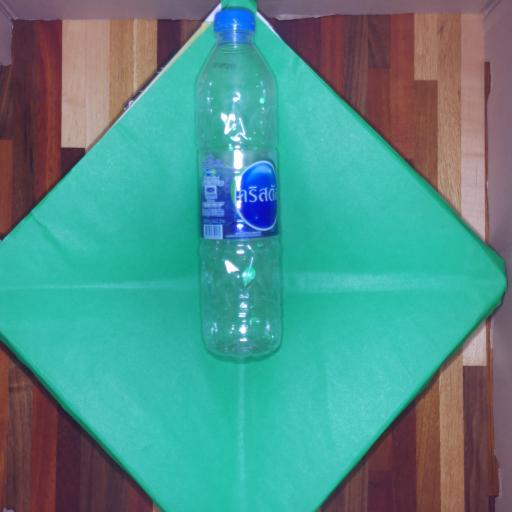bottle: (197, 9, 281, 357)
